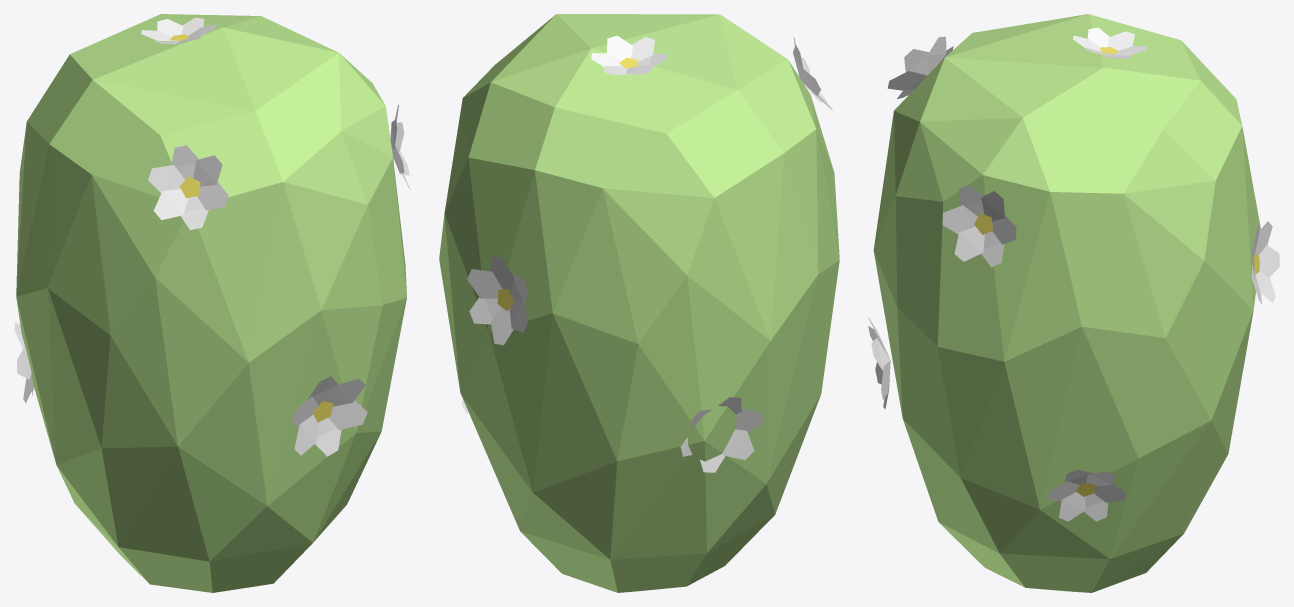
Rendered from FlowerBush_a_m_02.fbx.
3 views of the same model, side by side, from view 1: azimuth 30°, elevation 25°; view 2: azimuth 150°, elevation 25°; view 3: azimuth 270°, elevation 25° (orthographic).
Parts seen in each view (by area): view 1: FlowerBush_a_m_02; view 2: FlowerBush_a_m_02; view 3: FlowerBush_a_m_02.
Part boxes in pixels (x1,y1,x2,y2): FlowerBush_a_m_02: [14, 14, 410, 592]; FlowerBush_a_m_02: [439, 14, 839, 592]; FlowerBush_a_m_02: [868, 14, 1279, 592].
Size of the model in its own units: 147 by 228 by 155.
